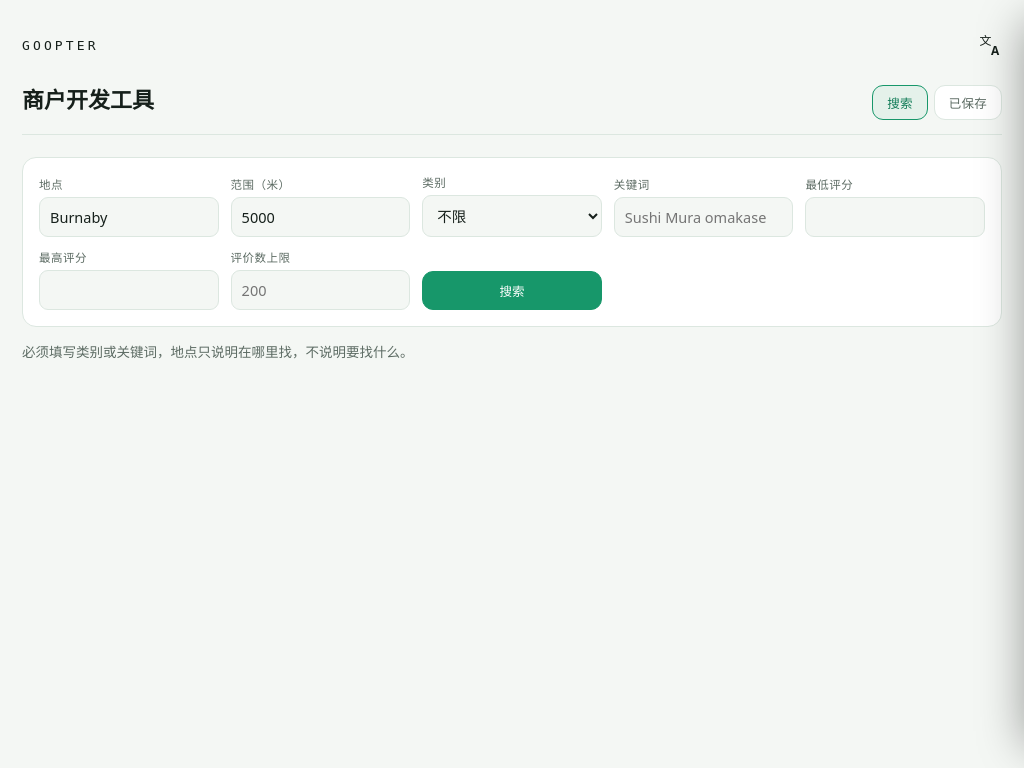
it: zh-Hans › keeps a message in the language on screen when the language changes
Type "sushi" into the field labelled "关键词" at (704, 217), box [614,197,793,237]
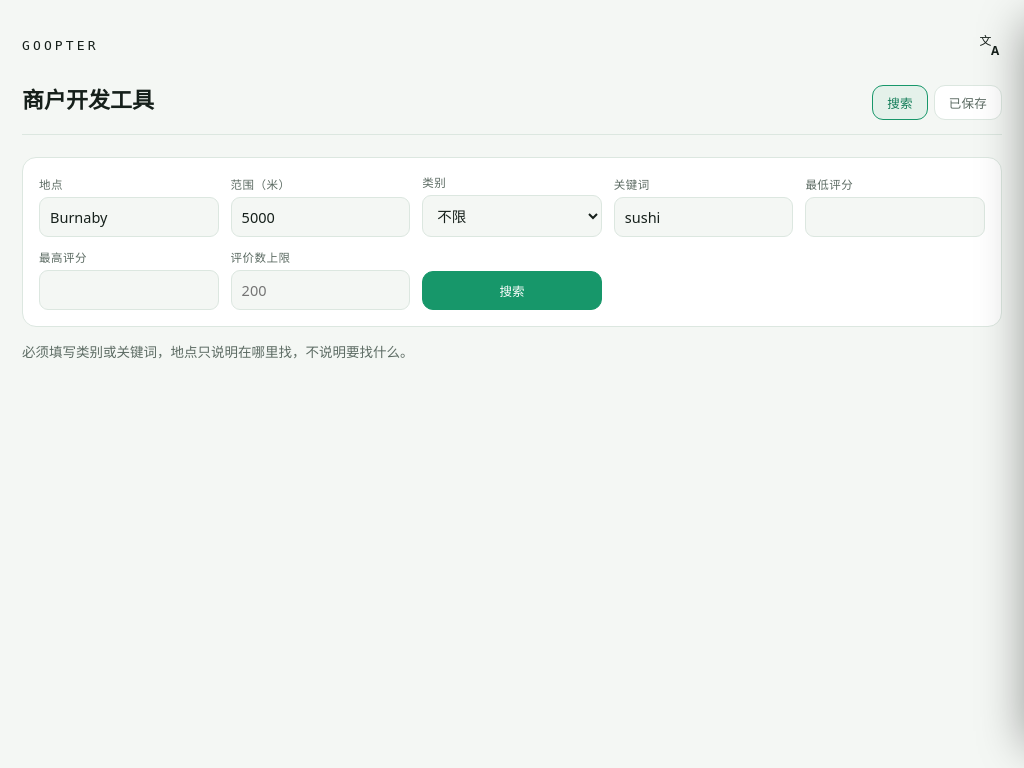
Click the button "搜索" at (512, 290), box [422,271,602,310]
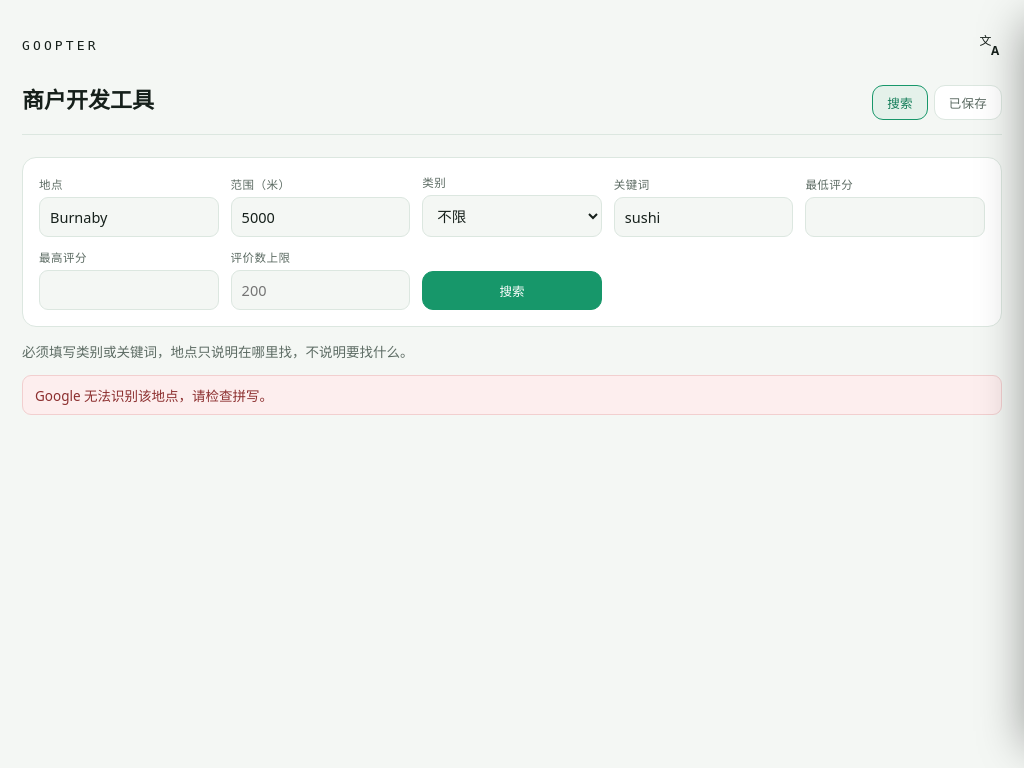
Expected: the text "Google 无法识别该地点，请检查拼写。" is shown, [22,375,1002,415]
Click the button with class "menu" at (990, 45), box [973,28,1007,62]
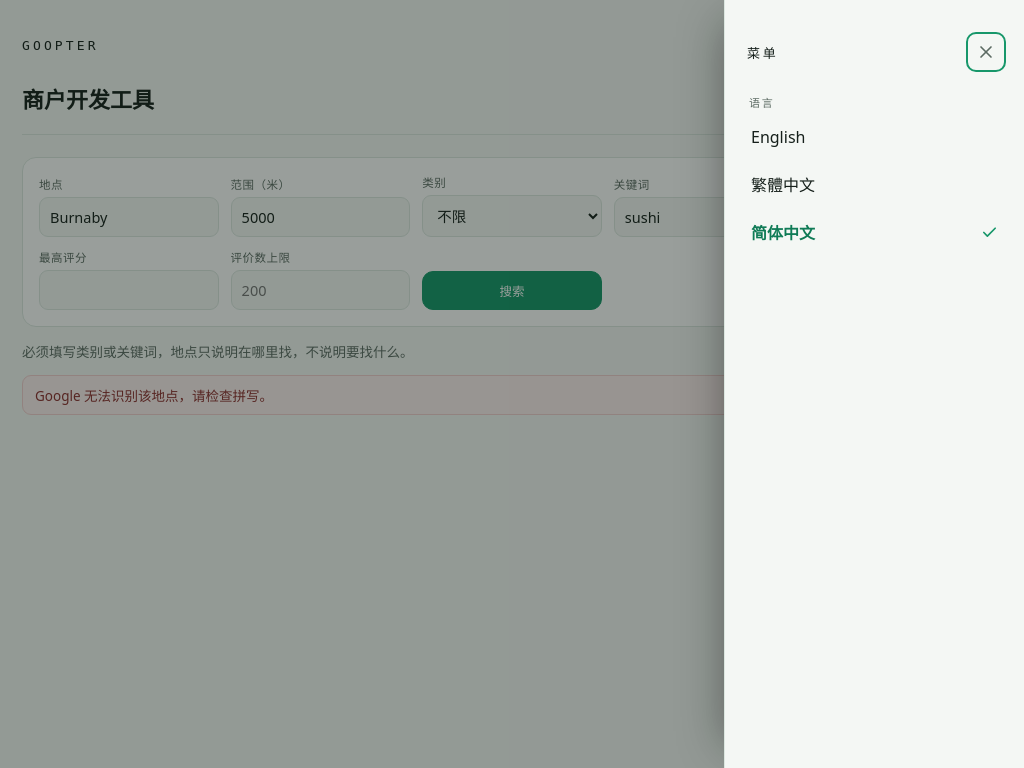
Click the menu item "English" at (778, 137), box [743,114,1006,160]
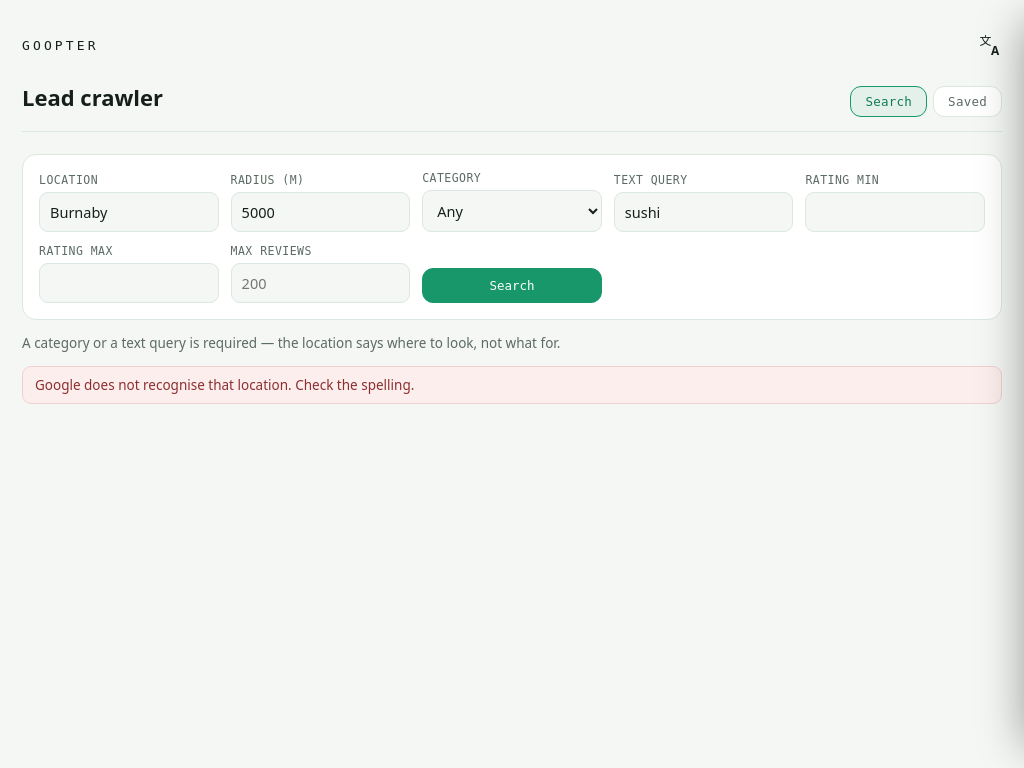
Expected: the text "Google does not recognise that location. Check the spelling." is shown, [22,366,1002,404]
Expected: the text "Google 无法识别该地点，请检查拼写。" is gone
